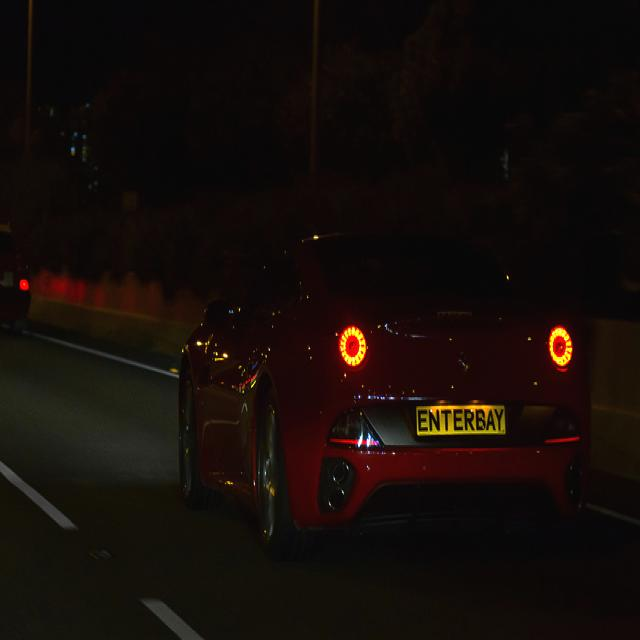Car: (181, 231, 593, 559)
